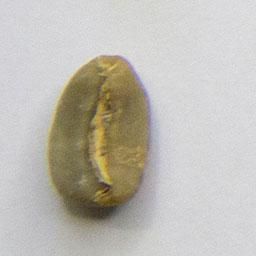longberry: (45, 51, 154, 214)
